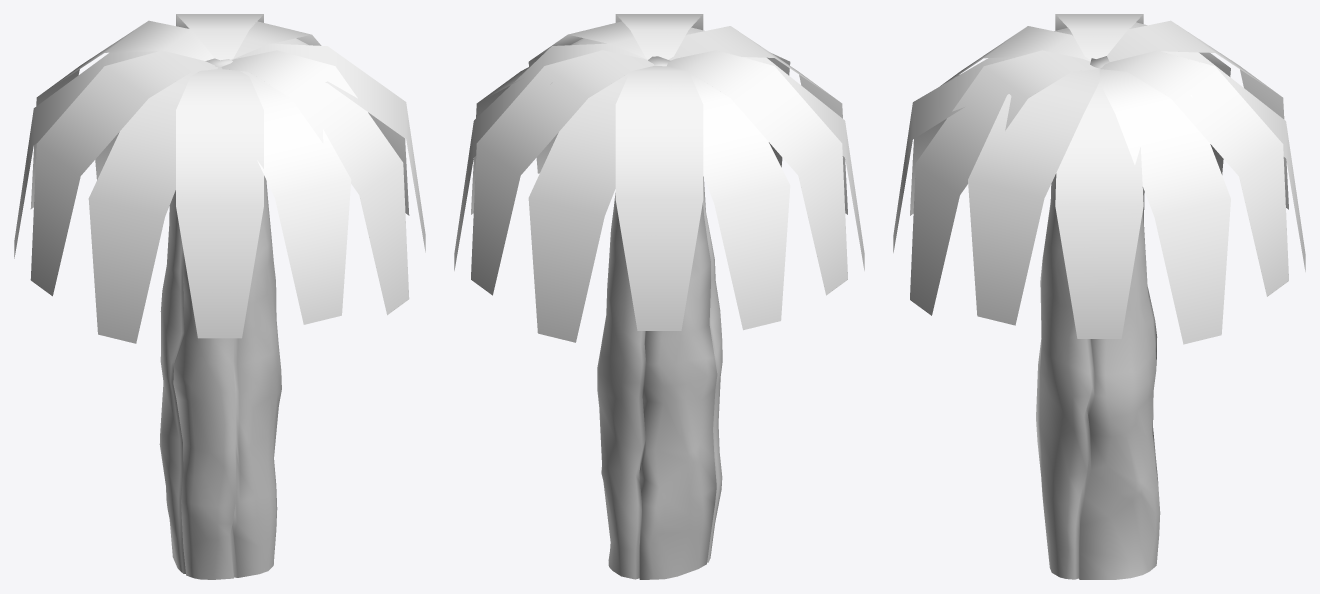
File: TreeLikePlant.fbx
3 renders of one model, left to right at view 1: azimuth 30°, elevation 25°; view 2: azimuth 150°, elevation 25°; view 3: azimuth 270°, elevation 25°, orthographic.
Parts seen in each view (by area): view 1: Leaves, Trunk; view 2: Leaves, Trunk; view 3: Leaves, Trunk.
Boxes of the visible parts, x1,y1,x2,y2 form: Leaves: [14, 14, 425, 343]; Trunk: [159, 58, 281, 579]; Leaves: [454, 14, 864, 342]; Trunk: [597, 56, 722, 579]; Leaves: [893, 14, 1305, 344]; Trunk: [1036, 56, 1160, 579].
Bounding box in the file's own units: 420 × 573 × 420.
Materials: 2 (1 with a texture image).
